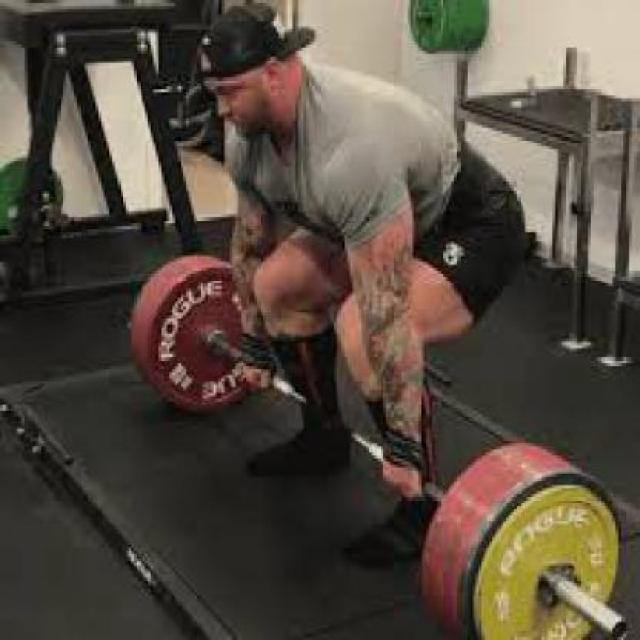barbell: (452, 466, 636, 639)
